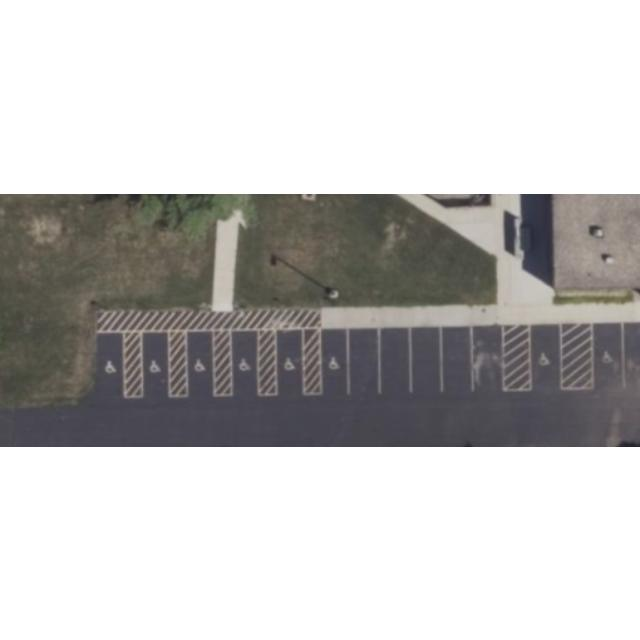Empty: (348, 329, 380, 393), (530, 324, 560, 390), (380, 326, 410, 392), (593, 323, 623, 387), (442, 326, 472, 390), (472, 326, 502, 390), (410, 328, 440, 390), (230, 329, 258, 395), (187, 330, 213, 396), (97, 333, 123, 397), (277, 330, 303, 394), (322, 328, 348, 392), (144, 332, 168, 396)
